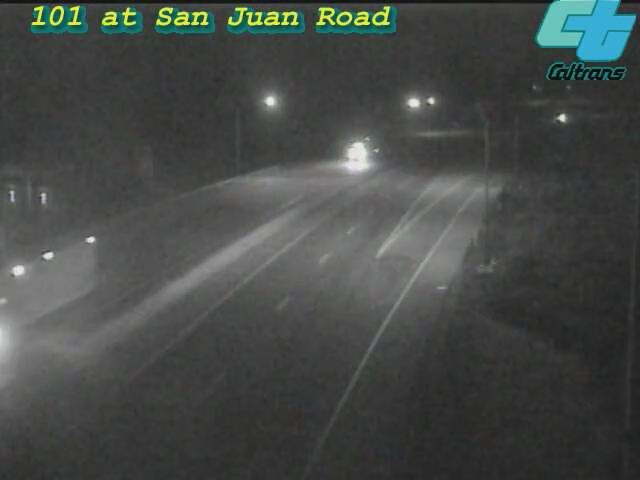vehicle: (8, 241, 88, 321), (316, 112, 396, 192), (538, 92, 588, 142)
